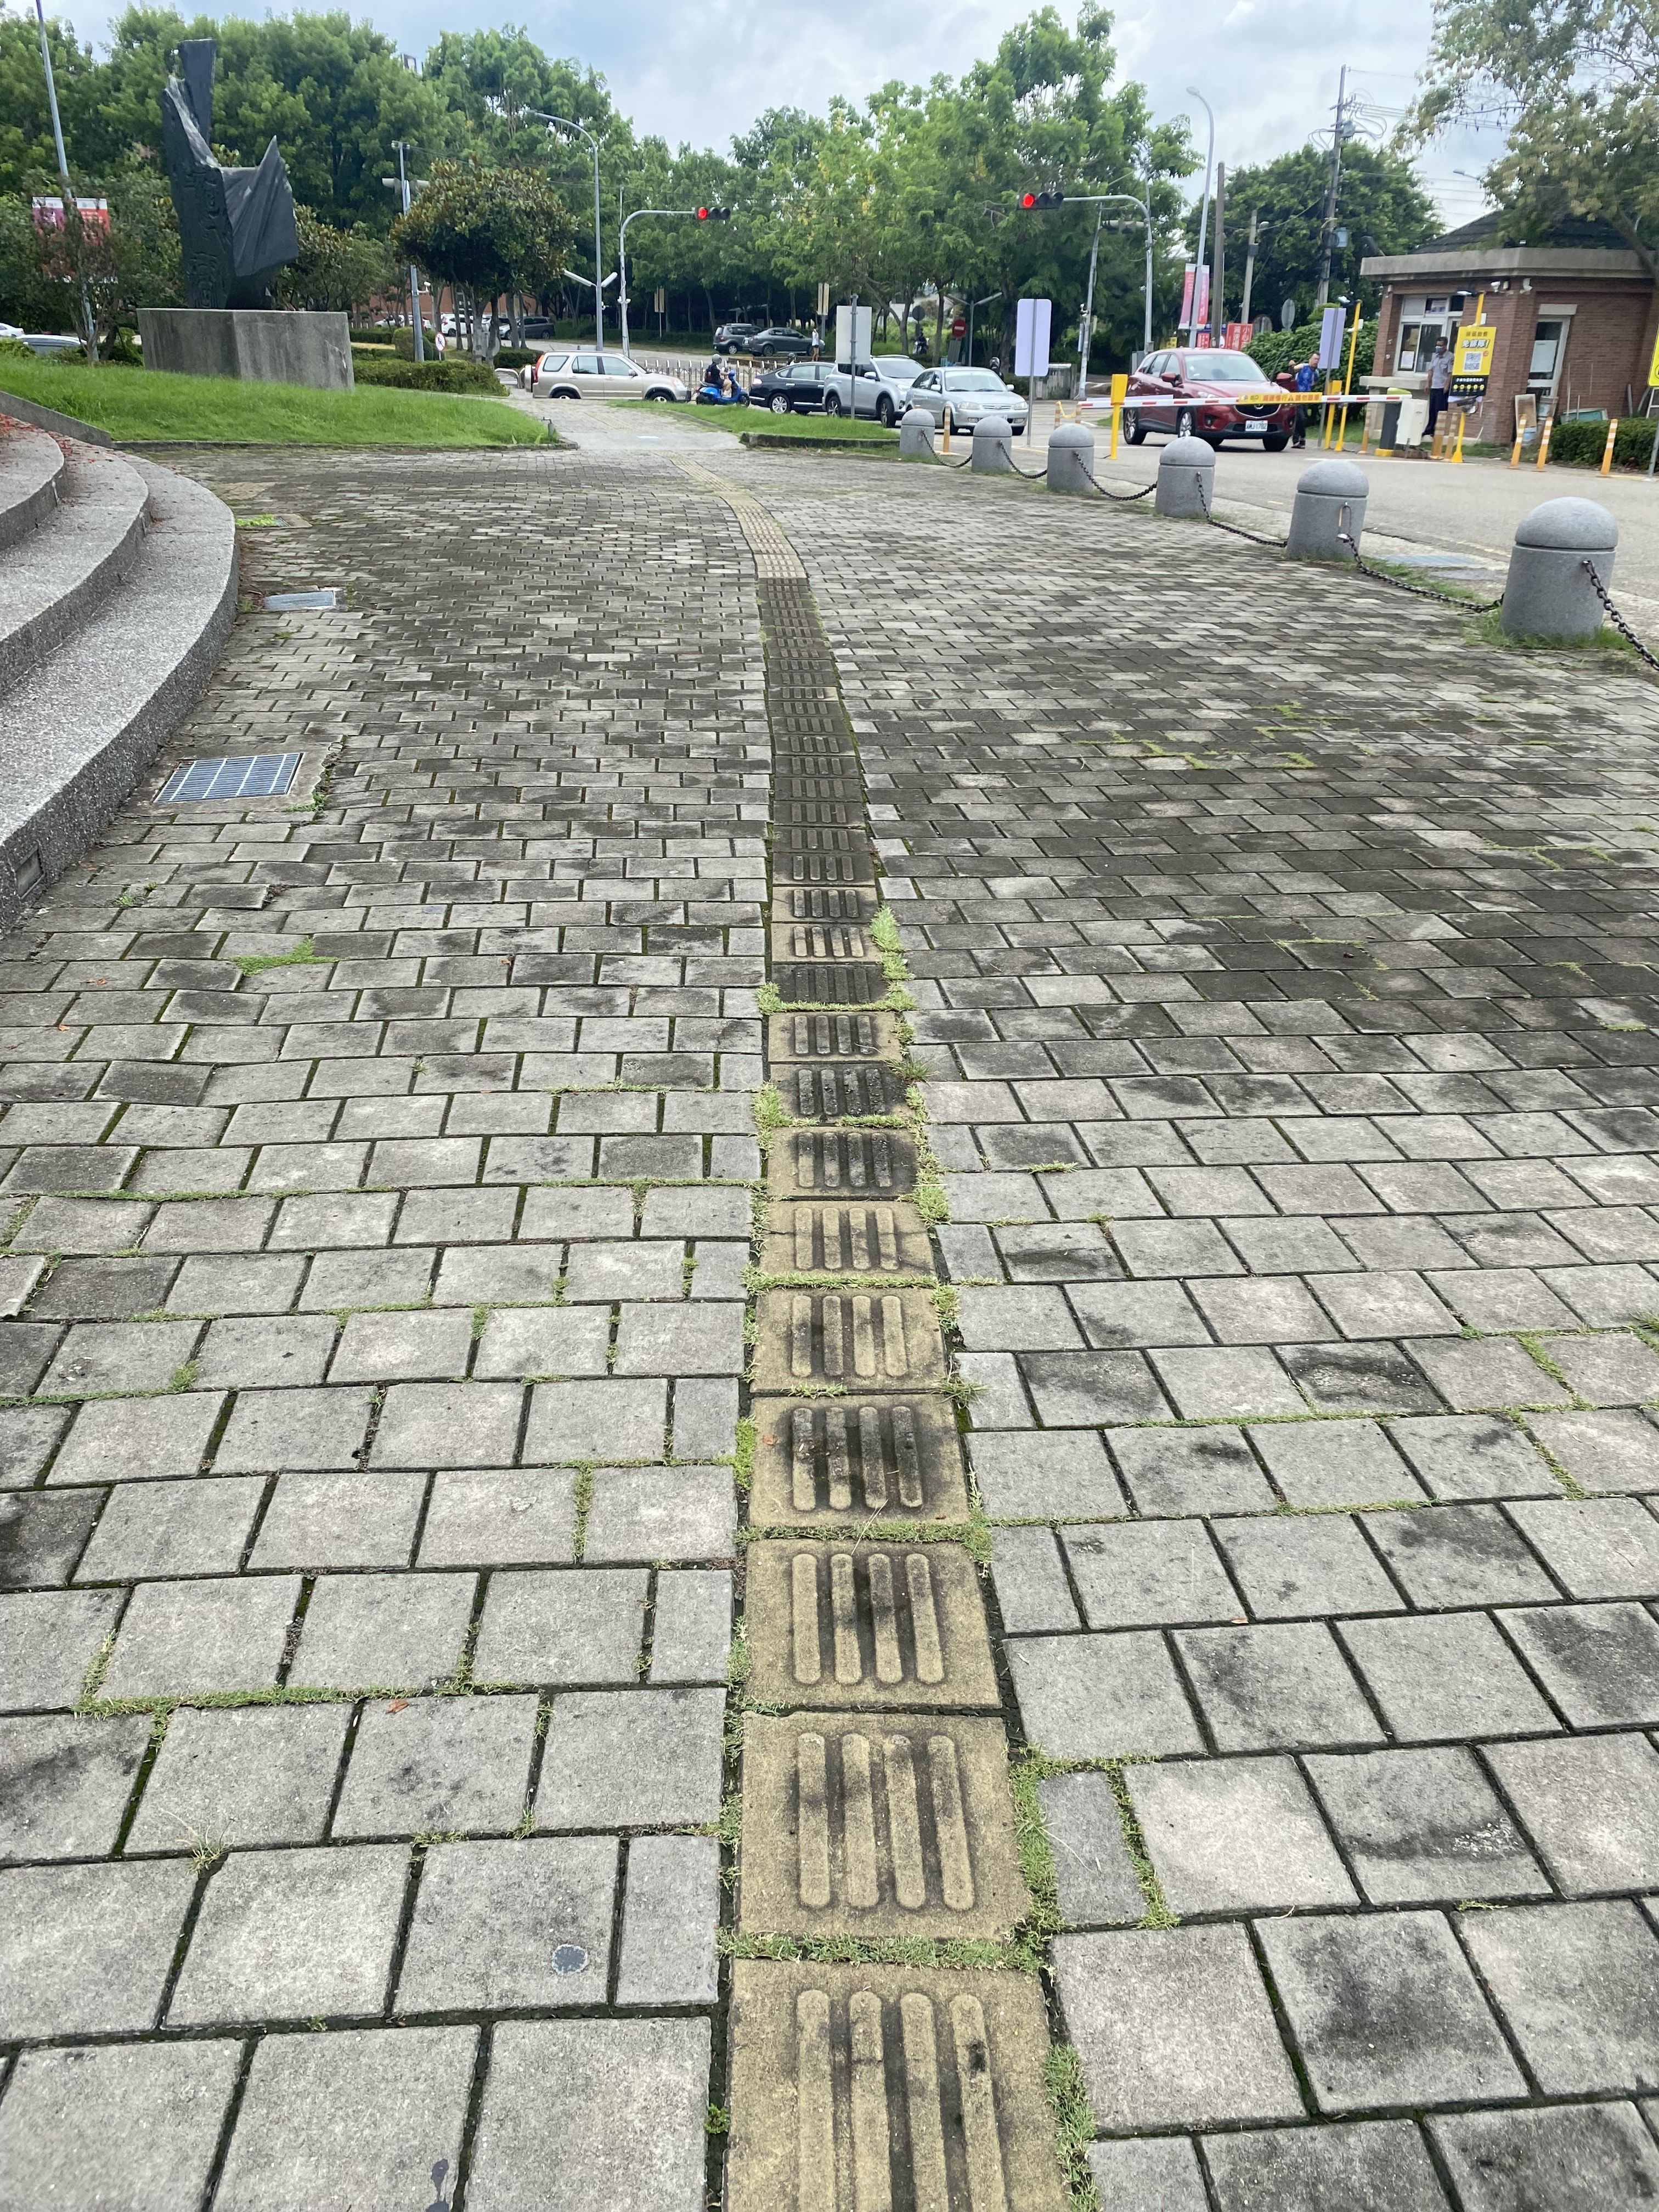sidewalk: (3, 434, 1659, 2212)
